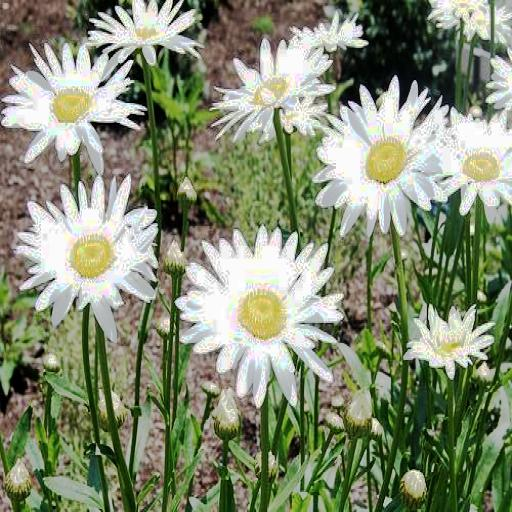daisy: (181, 230, 336, 396), (322, 89, 446, 228), (24, 189, 154, 311), (7, 46, 132, 160), (221, 46, 325, 145), (442, 103, 512, 209), (408, 309, 494, 375)
